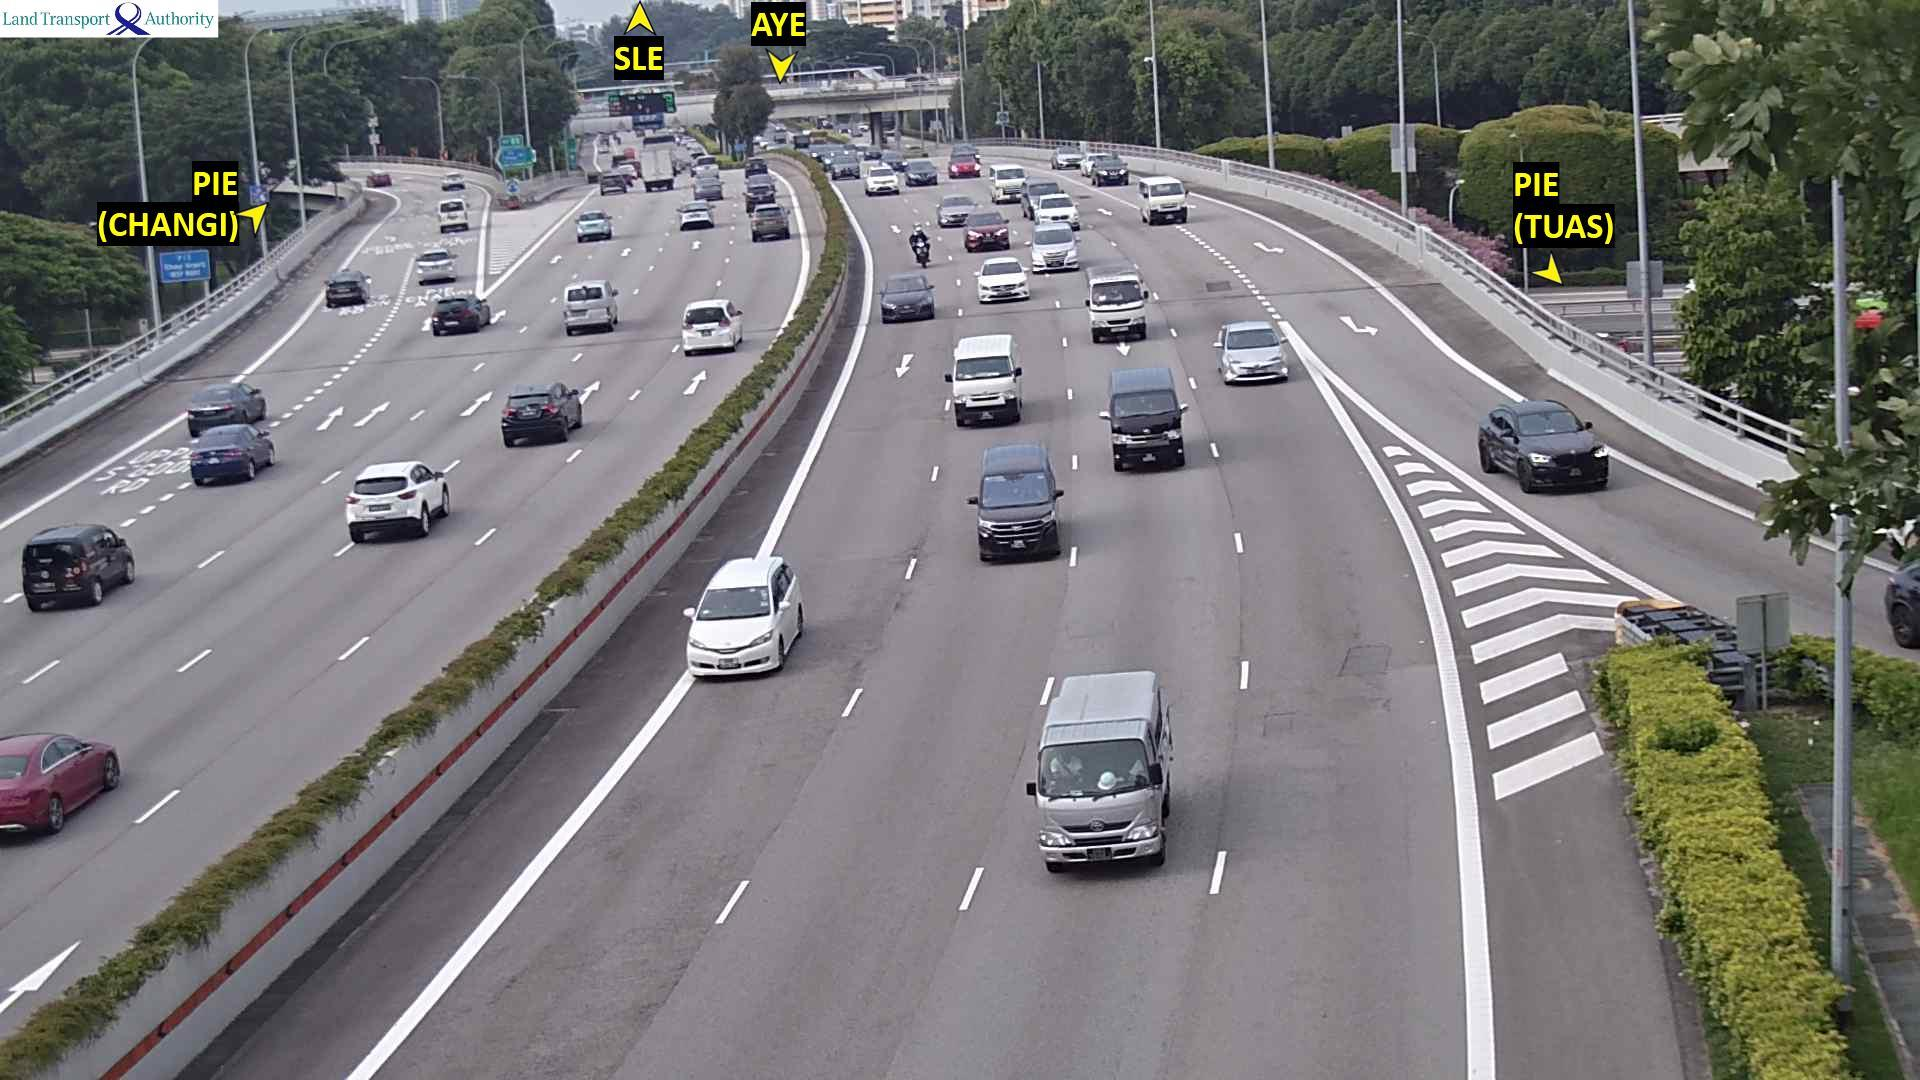incoming: (1025, 733, 1167, 873), (682, 579, 793, 683), (965, 464, 1068, 567), (1501, 406, 1613, 492), (1097, 386, 1187, 473), (943, 352, 1026, 430), (1213, 326, 1290, 385), (1083, 280, 1150, 344), (876, 276, 939, 326), (972, 260, 1031, 306), (1025, 228, 1083, 274), (1142, 183, 1191, 227), (960, 212, 1013, 252), (1033, 195, 1081, 231), (935, 194, 981, 228), (1022, 182, 1060, 219), (989, 169, 1027, 204), (1091, 157, 1130, 189), (862, 166, 901, 196), (902, 158, 939, 187), (906, 235, 934, 270), (828, 154, 861, 181), (948, 156, 981, 178), (1055, 146, 1085, 170), (880, 148, 909, 171), (914, 203, 915, 203)
